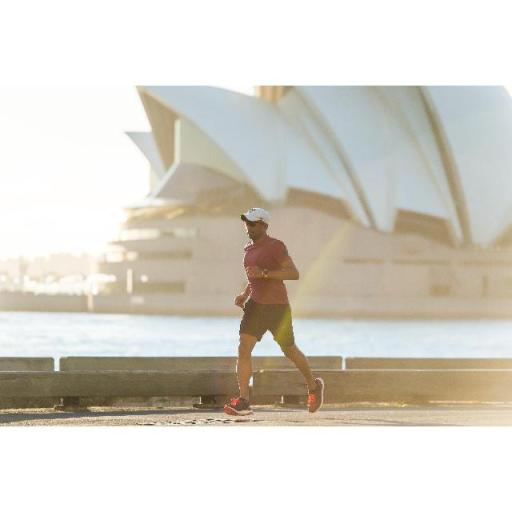Running: (214, 201, 334, 423)
